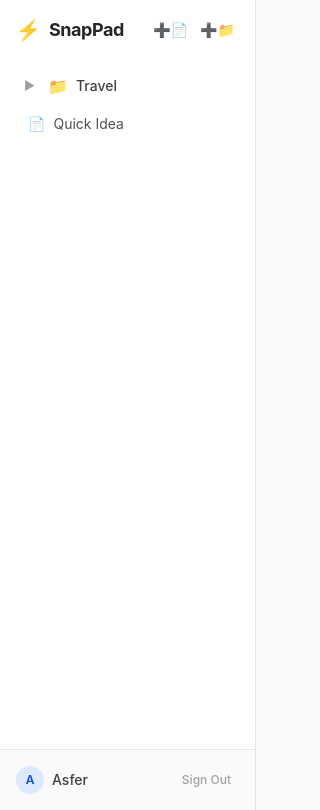
Test case: Sidebar Component UI Tests › expands a folder on click and reveals its subfolders and notes
// Expand the folder
Click the text "Travel": click(96, 86) top-left (76, 76), bottom-right (117, 96)
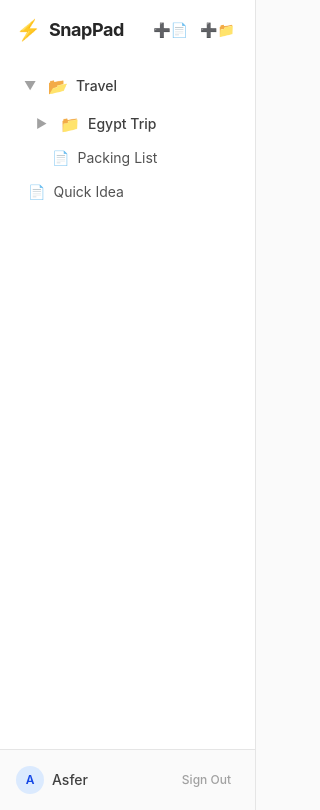
Expected: the text "Packing List" is shown, top-left (78, 148), bottom-right (158, 168)
Expected: the text "Egypt Trip" is shown, top-left (88, 114), bottom-right (156, 134)
// Collapse the folder
Click the text "Travel": click(96, 86) top-left (76, 76), bottom-right (117, 96)
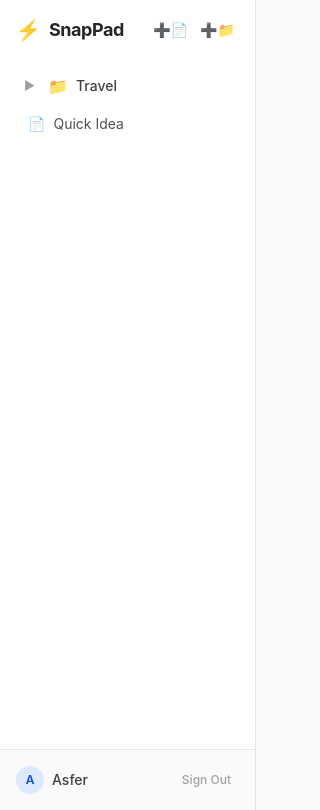
Expected: the text "Packing List" is gone
Expected: the text "Egypt Trip" is gone
